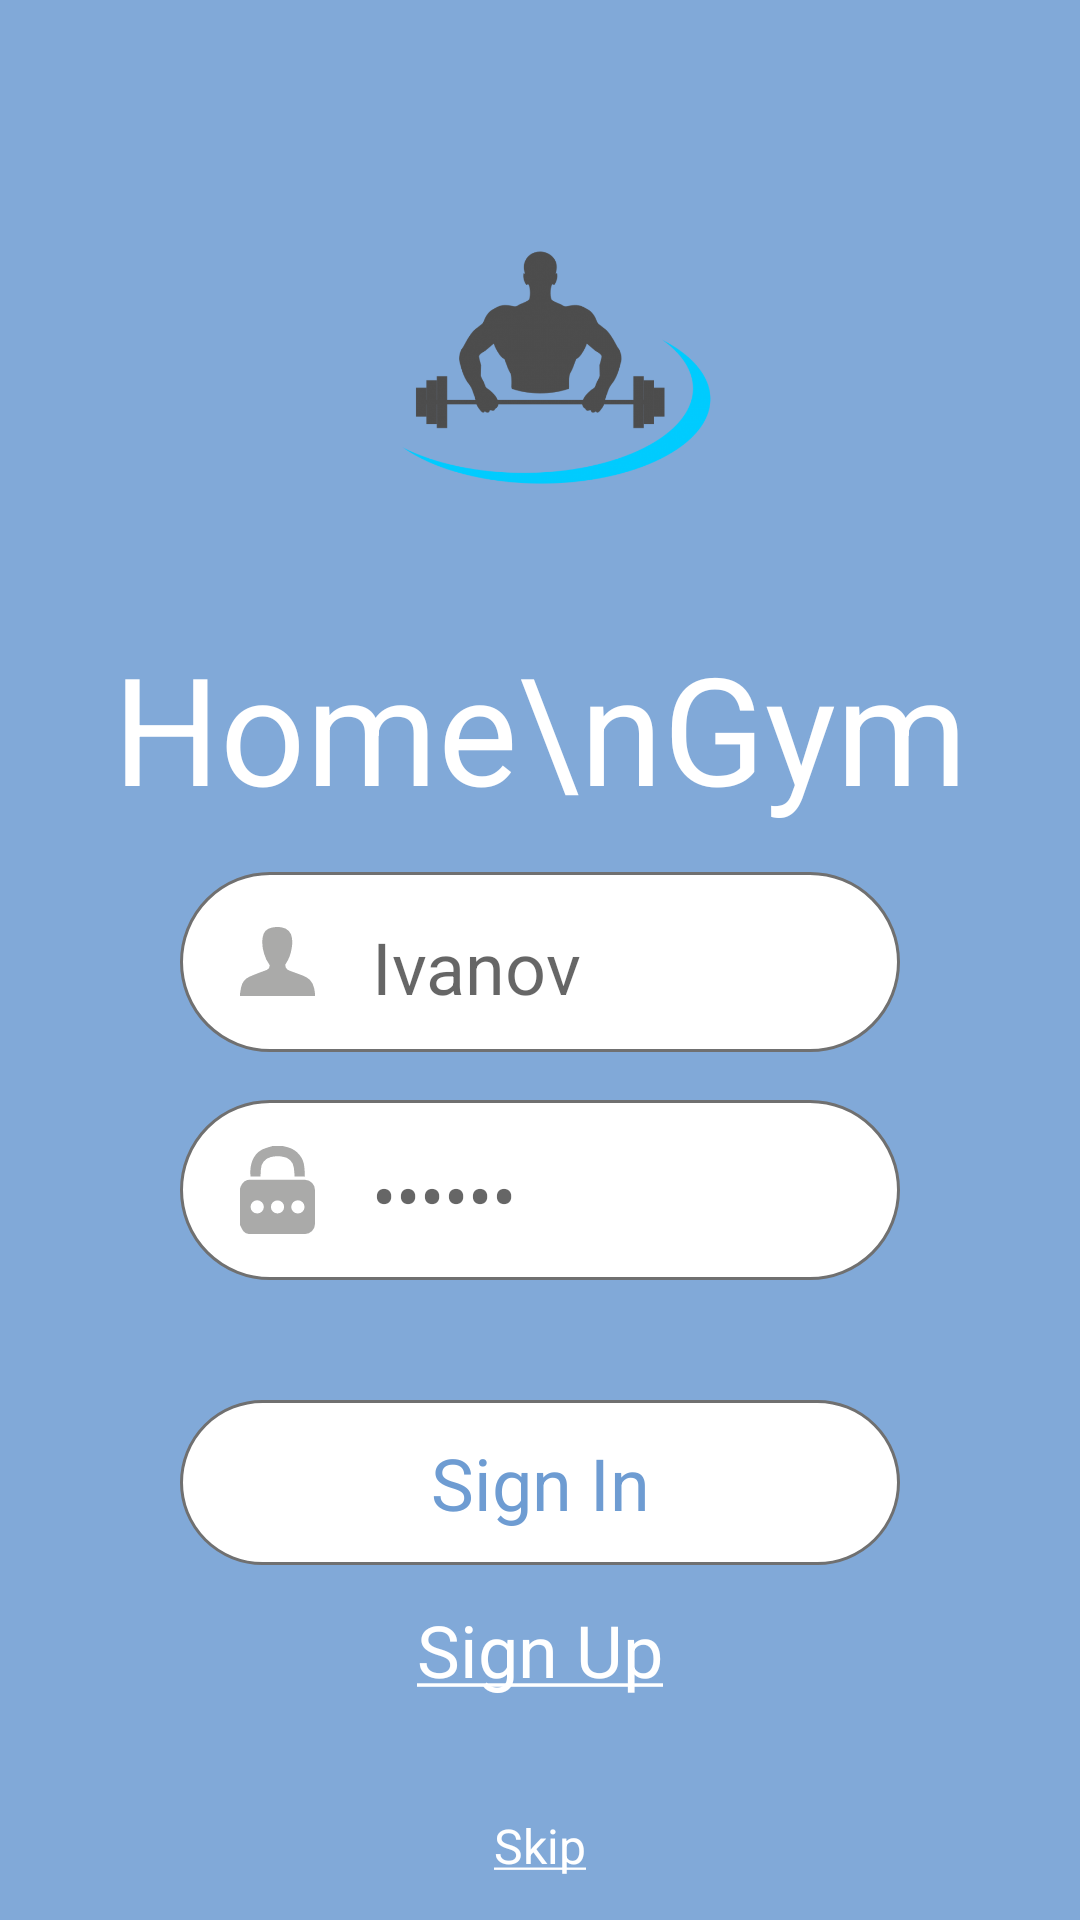

Named icons in this screenshot (1080 x 1920) and their bounding boxes, (x1, y1, x2, y2):
Image of a closed lock: (240, 1146, 315, 1234)
Image of a person: (240, 927, 315, 996)
